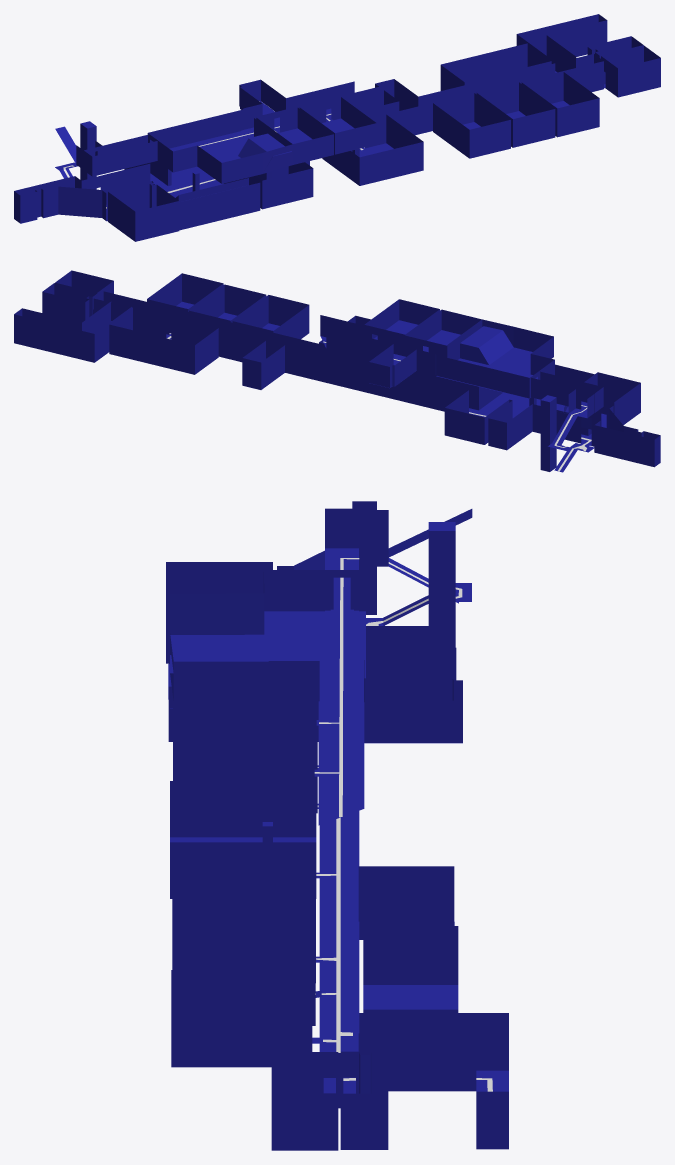
File: ingria.fbx
3 views of the same model, one above another, from view 1: azimuth 30°, elevation 25°; view 2: azimuth 150°, elevation 25°; view 3: azimuth 270°, elevation 25° (orthographic). The views are drawn at different scales.
Visible parts, largest first — view 1: 1and2, 3, palka; view 2: 1and2, 3, palka, fast; view 3: 1and2, 3, fast, palka.
Boxes of the visible parts, left/top/right/bottom form: 1and2: left=14, top=14, right=660, bottom=241; 3: left=55, top=79, right=383, bottom=183; palka: left=80, top=121, right=96, bottom=189; 1and2: left=14, top=270, right=660, bottom=472; 3: left=320, top=299, right=603, bottom=445; palka: left=540, top=395, right=556, bottom=471; fast: left=167, top=336, right=591, bottom=471; 1and2: left=166, top=501, right=508, bottom=1150; 3: left=170, top=508, right=472, bottom=825; fast: left=314, top=558, right=492, bottom=1091; palka: left=428, top=522, right=455, bottom=647.
Size of the model in its own units: 8478 by 929 by 2067.
